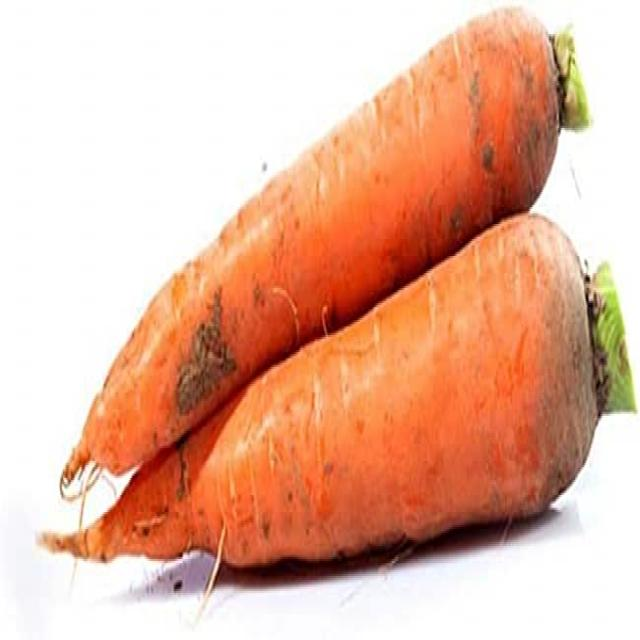Carrot: (54, 8, 592, 480), (42, 214, 636, 557)
